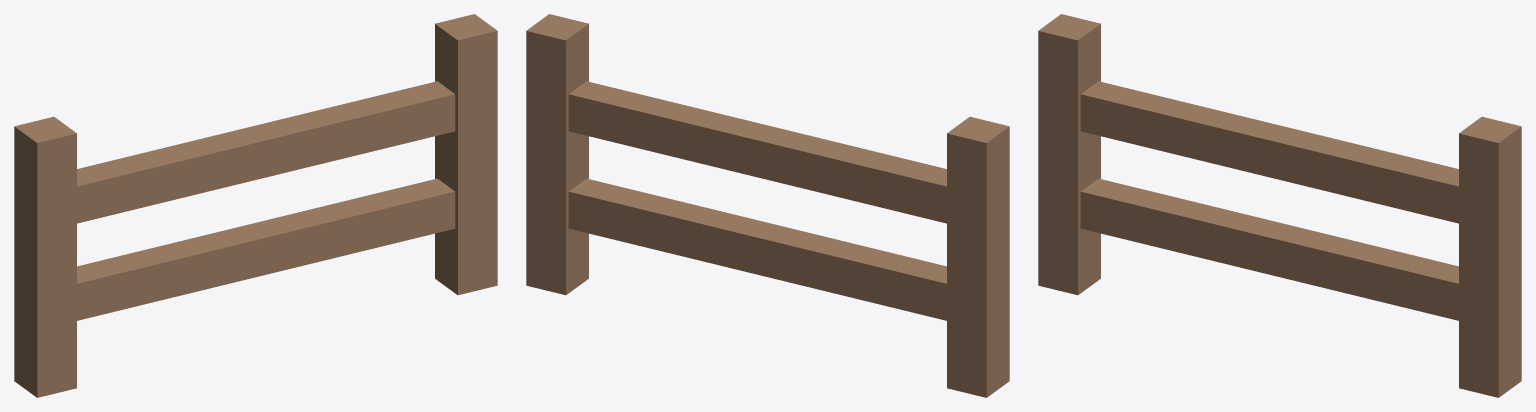
File: fence-segment.glb
3 views of the same model, side by side, from view 1: azimuth 30°, elevation 25°; view 2: azimuth 150°, elevation 25°; view 3: azimuth 330°, elevation 25° (orthographic).
Visible parts, largest first — view 1: PLACEHOLDER_rail-low, PLACEHOLDER_rail-top, PLACEHOLDER_post-left, PLACEHOLDER_post-right; view 2: PLACEHOLDER_rail-low, PLACEHOLDER_rail-top, PLACEHOLDER_post-left, PLACEHOLDER_post-right; view 3: PLACEHOLDER_rail-low, PLACEHOLDER_rail-top, PLACEHOLDER_post-right, PLACEHOLDER_post-left.
Part boxes in pixels (left/top/right/bottom): PLACEHOLDER_rail-low: left=77, top=178, right=455, bottom=320; PLACEHOLDER_rail-top: left=77, top=81, right=455, bottom=223; PLACEHOLDER_post-left: left=14, top=116, right=76, bottom=397; PLACEHOLDER_post-right: left=435, top=14, right=497, bottom=295; PLACEHOLDER_rail-low: left=568, top=178, right=946, bottom=320; PLACEHOLDER_rail-top: left=568, top=81, right=946, bottom=223; PLACEHOLDER_post-left: left=947, top=116, right=1009, bottom=397; PLACEHOLDER_post-right: left=526, top=14, right=588, bottom=295; PLACEHOLDER_rail-low: left=1080, top=178, right=1458, bottom=320; PLACEHOLDER_rail-top: left=1080, top=81, right=1458, bottom=223; PLACEHOLDER_post-right: left=1459, top=116, right=1521, bottom=397; PLACEHOLDER_post-left: left=1038, top=14, right=1100, bottom=295.
Size of the model in its own units: 2.08 by 1.1 by 0.18.
